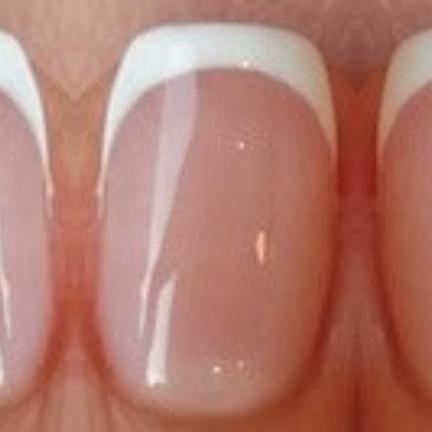Nail: (92, 22, 337, 415), (0, 28, 56, 412), (376, 29, 432, 405)
